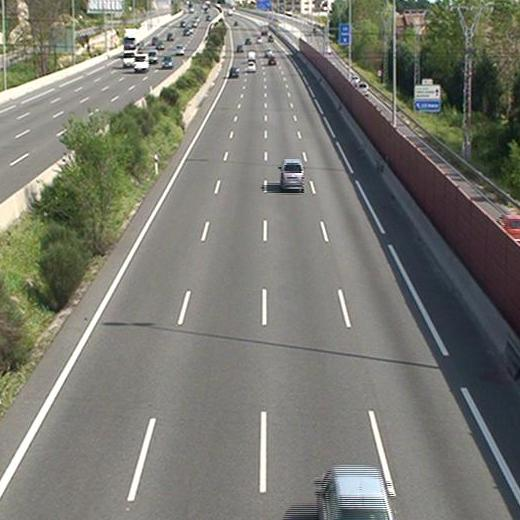car: (279, 158, 304, 191), (229, 66, 239, 78), (246, 61, 255, 72), (266, 55, 276, 64)
